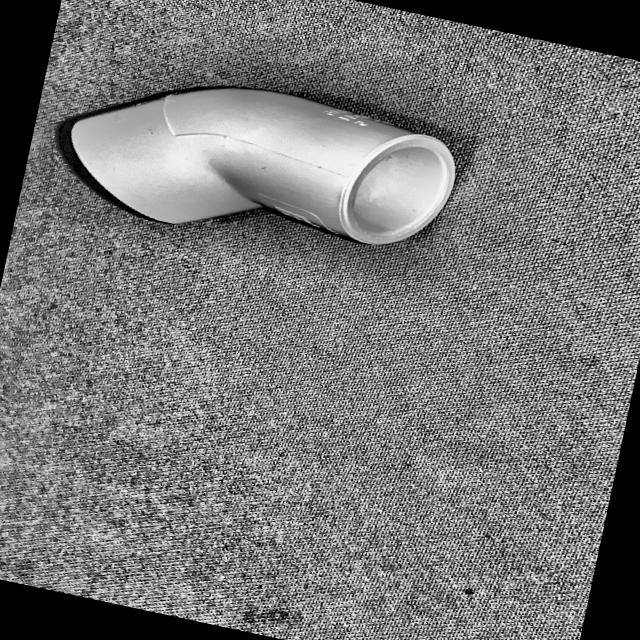ELBOW45: (69, 87, 455, 245)
